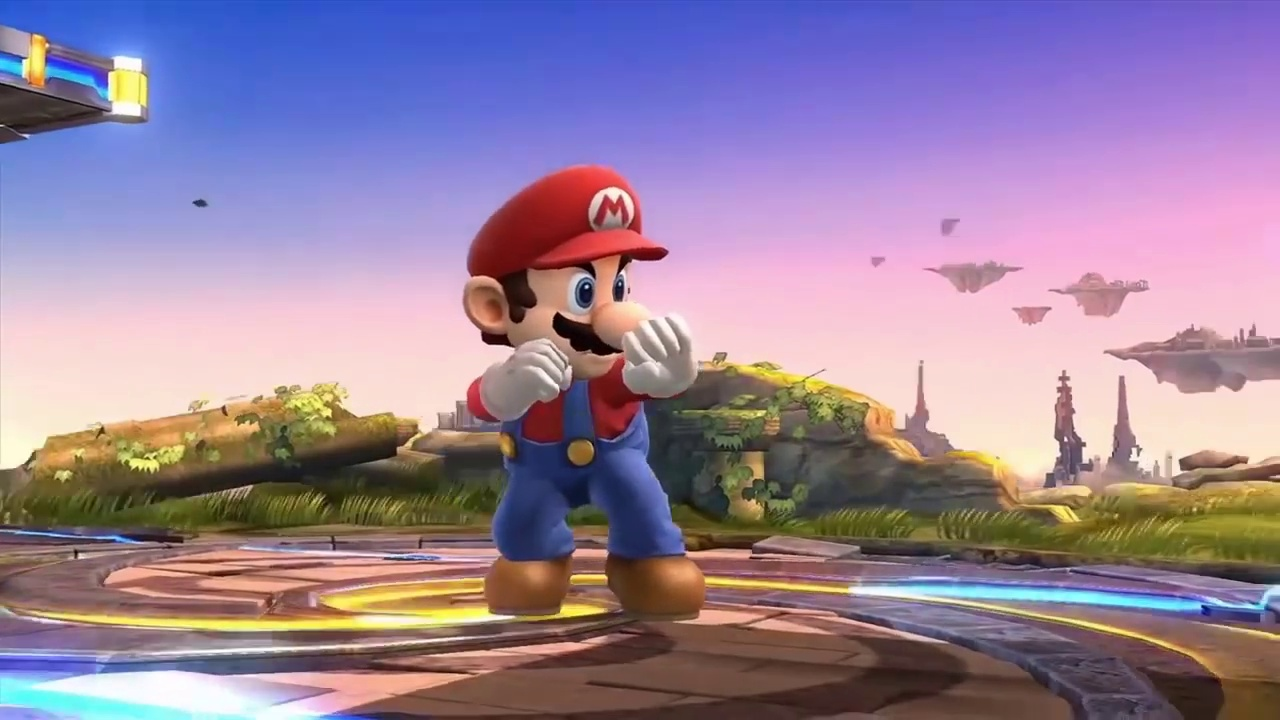Mario: (463, 165, 697, 620)
